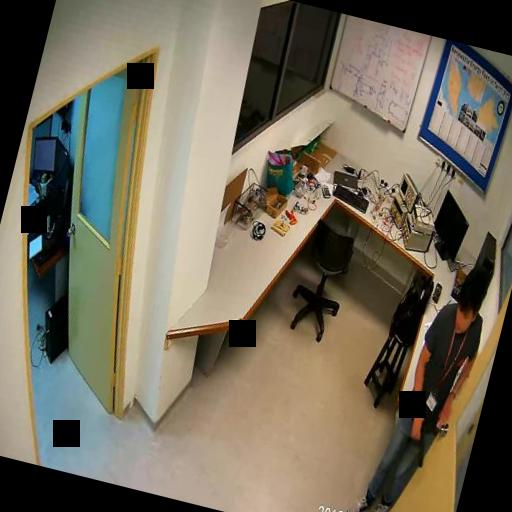Handgun: (402, 415, 432, 467)
